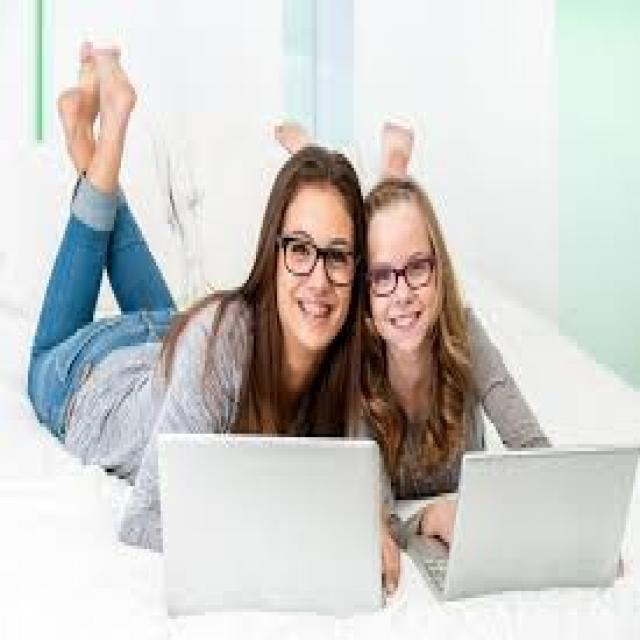Glasses: (277, 228, 363, 290), (365, 252, 440, 301)
